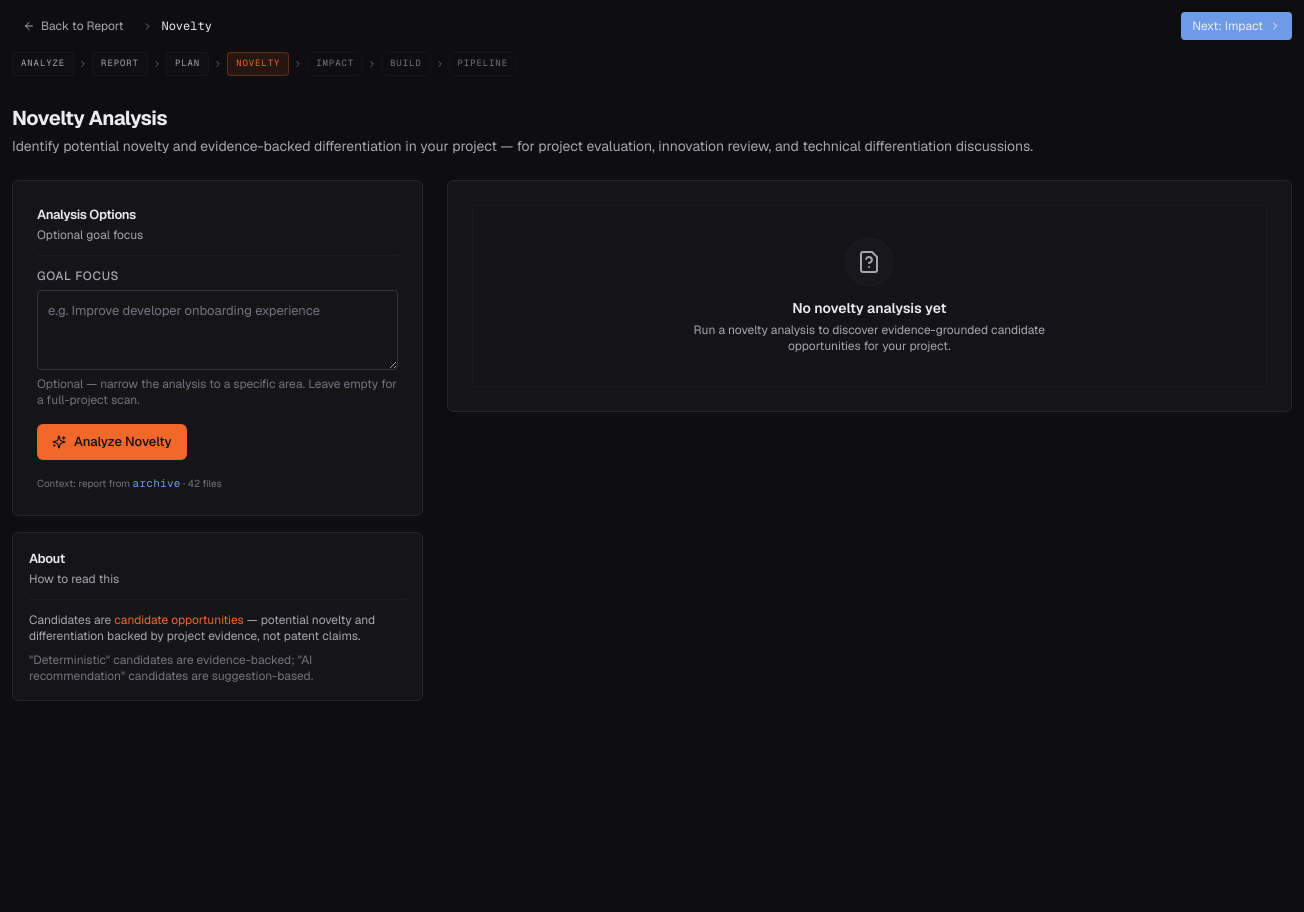
Test case: Novelty workflow › shows an error state on API failure
Click the button "Analyze Novelty". click: (112, 442)
box: [37,424,187,460]
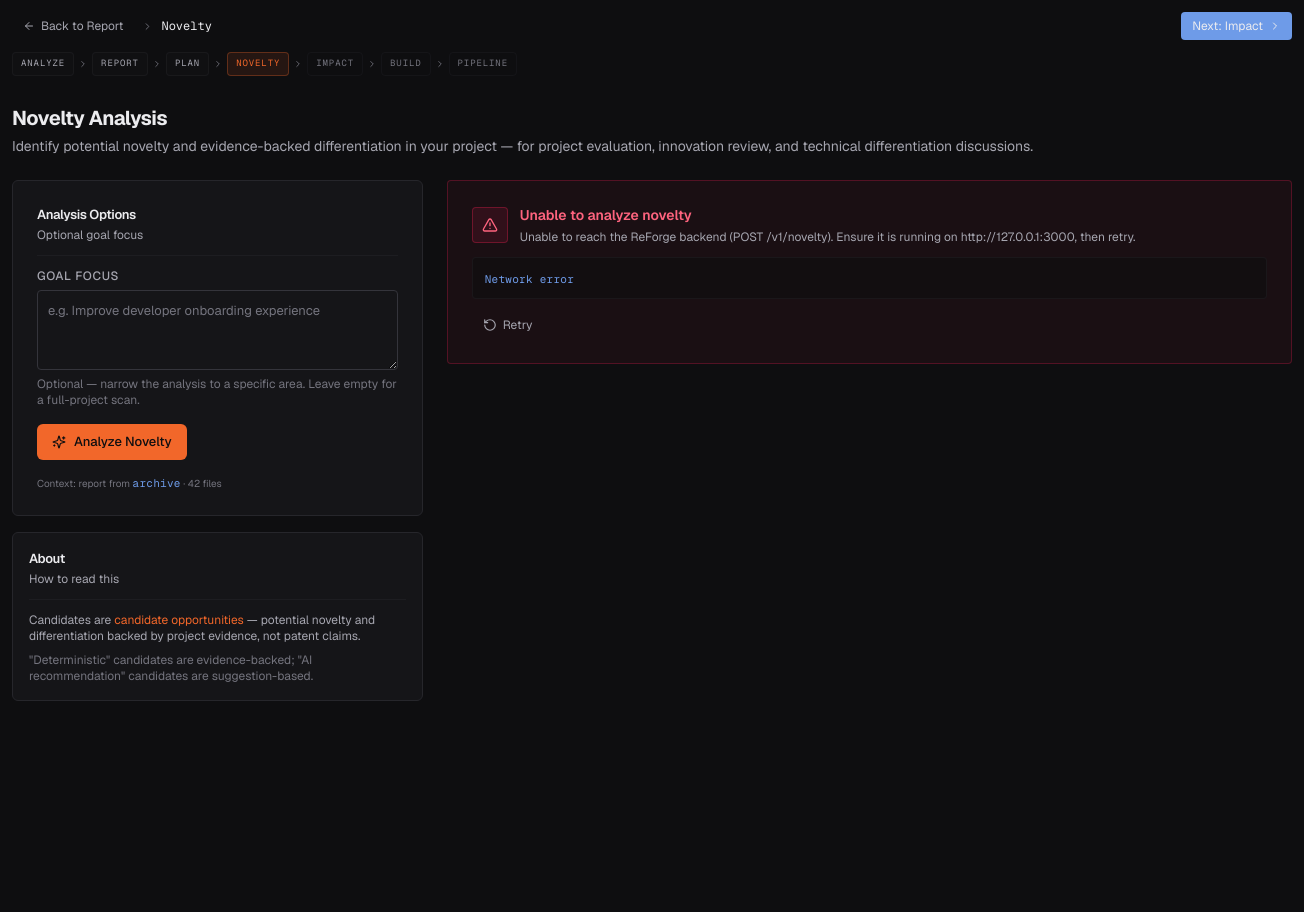
Result: the text "Network error" is shown at [481,272,578,286]
Result: the button "Retry" is shown at [472,310,544,338]
